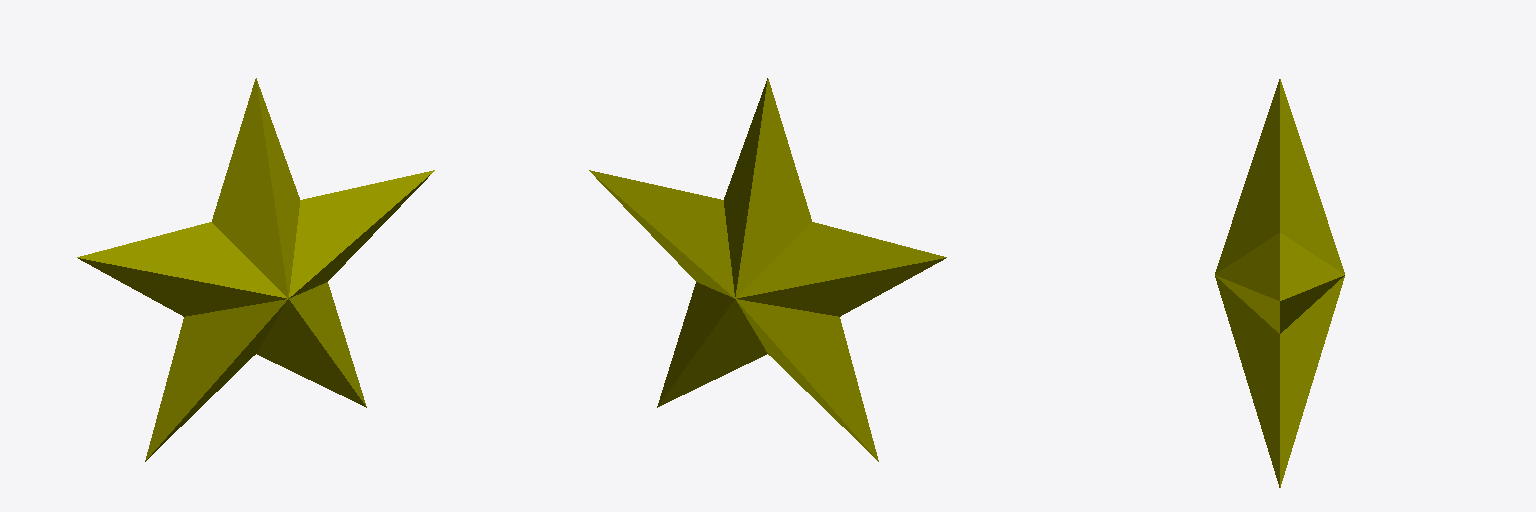
The model's file is star.obj.
3 views of the same model, side by side, from view 1: azimuth 30°, elevation 25°; view 2: azimuth 150°, elevation 25°; view 3: azimuth 270°, elevation 25° (orthographic).
Size of the model in its own units: 7.61 by 7.24 by 2.4.